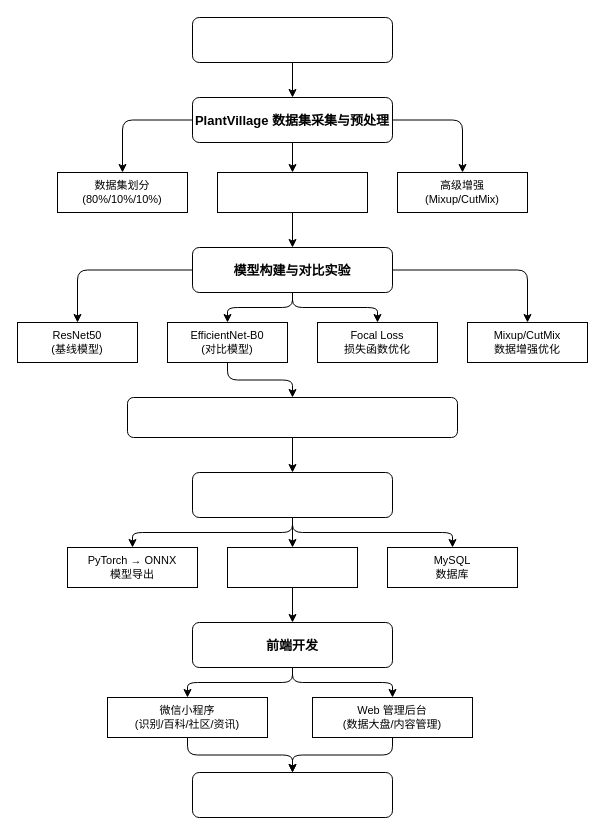
Some shapes in this 605 by 835 pixel diagram are drawn without their labels. The centre of each missing label's shape, as x and y in pixels:
FastAPI 后端服务: the point at 292,567
数据增强 (翻转/旋转/色彩抖动): the point at 292,192
模型导出与后端部署: the point at 292,495
确定最优模型：ResNet50 + Focal Loss + Mixup: the point at 292,417
系统测试与优化: the point at 292,795
需求分析与方案设计: the point at 292,39
